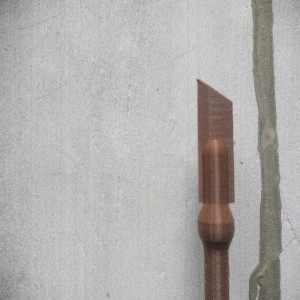cutter: (195, 76, 236, 300)
